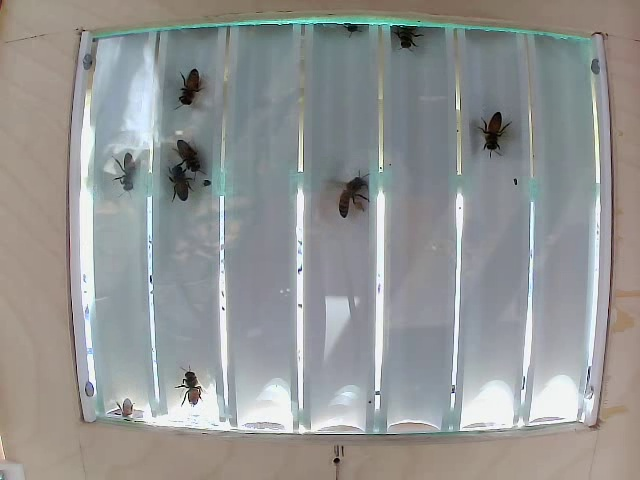bee: (330, 178, 373, 222), (169, 365, 213, 408), (481, 108, 515, 163), (394, 18, 431, 67), (174, 135, 216, 175), (103, 156, 146, 192), (168, 68, 207, 106), (168, 160, 199, 205)
